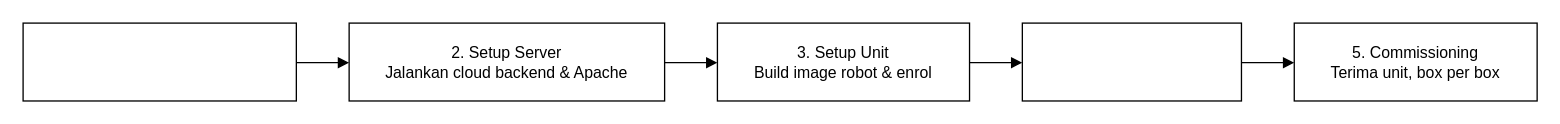
This 1560x124 diagram has some shape labels left out. The shapes that lost their labels are listed below. From the top down, each one's centre as x and y in pixels, then its label:
the point at 159,61: 1. Prasyarat Cek hardware & port firewall
the point at 1131,61: 4. Setup Sistem Checklist end-to-end
